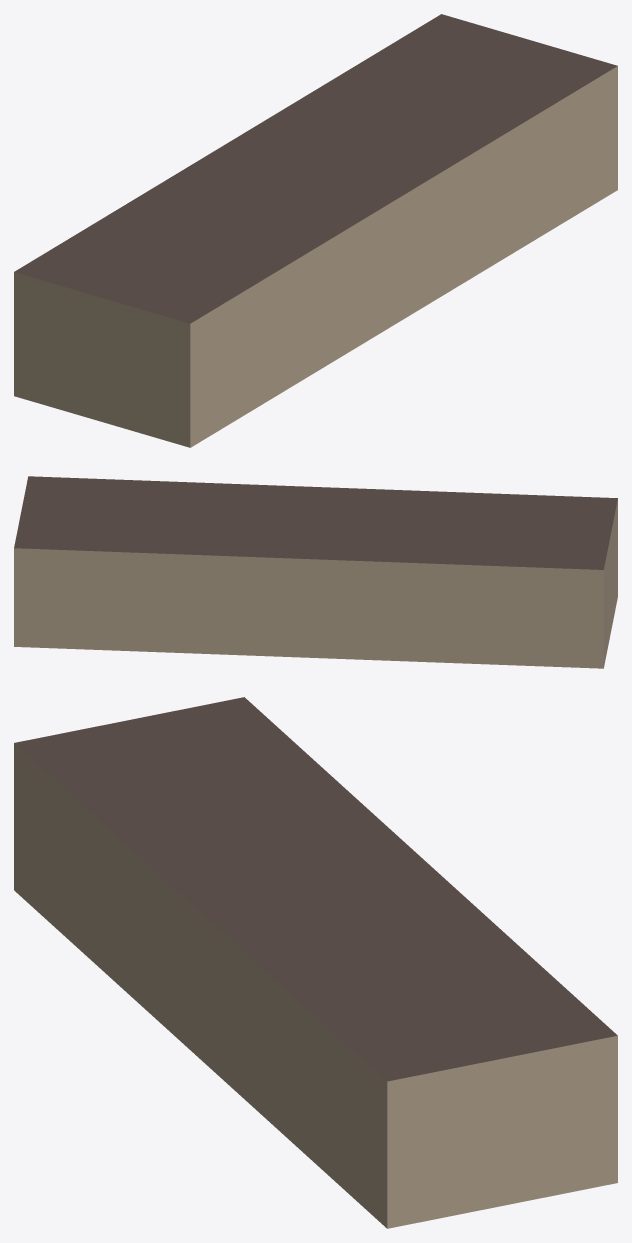
3 renders of one model, top to bottom at view 1: azimuth 30°, elevation 25°; view 2: azimuth 150°, elevation 25°; view 3: azimuth 270°, elevation 25°, orthographic. The views are drawn at different scales.
Visible parts, largest first — view 1: HP-w1287260663; view 2: HP-w1287260663; view 3: HP-w1287260663.
Boxes of the visible parts, x1,y1,x2,y2 form: HP-w1287260663: [14, 14, 617, 447]; HP-w1287260663: [14, 476, 617, 668]; HP-w1287260663: [14, 697, 617, 1228].
Bounding box in the file's own units: 50.37 × 9 × 33.44.
